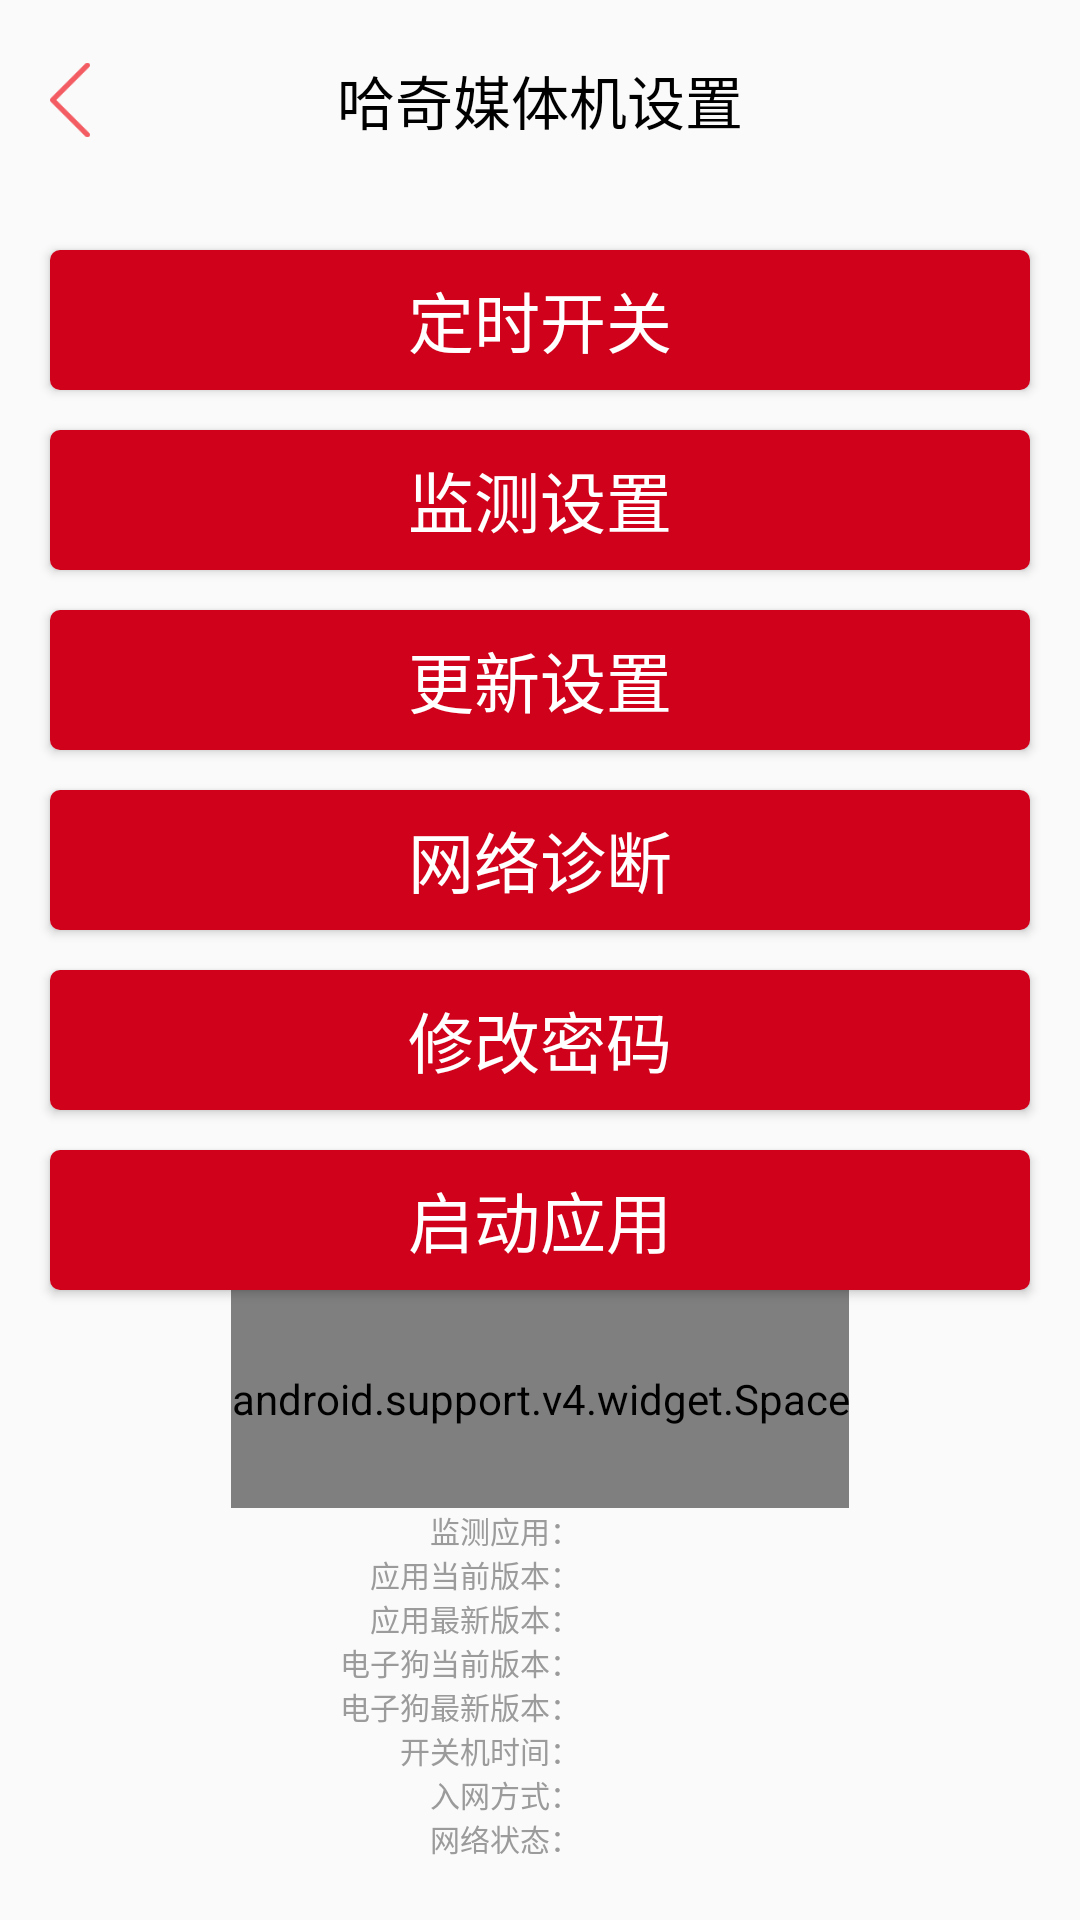

Screen size 1080px×1920px. Icon name, then its center in pixels as [x,y]:
back: [70,100]
